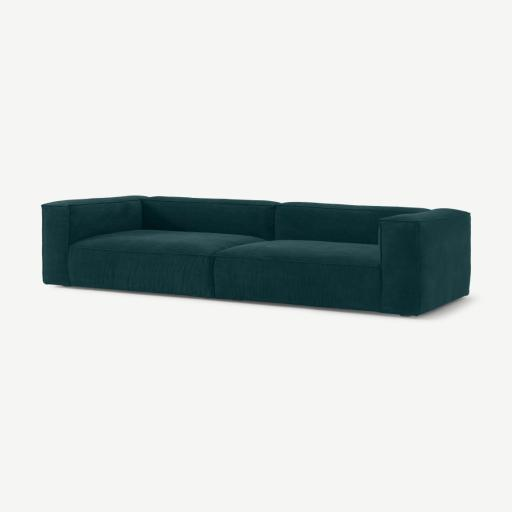back_cushion: (143, 197, 426, 244)
left_arm: (377, 209, 470, 315)
right_arm: (42, 196, 145, 284)
seat_cushion: (70, 230, 380, 310)
two-seater: (0, 0, 511, 512)
